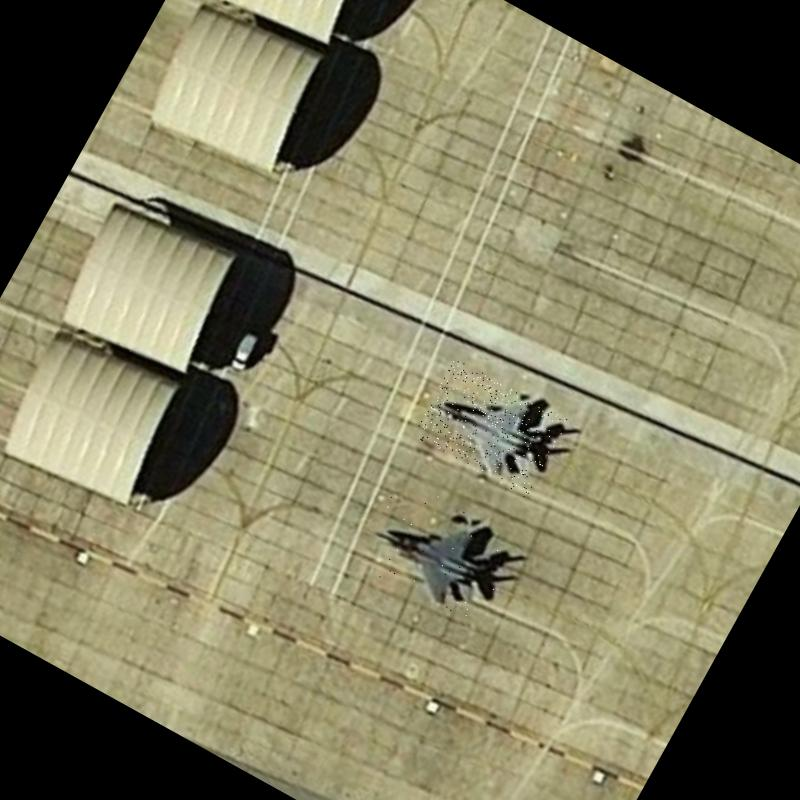A13: (351, 473, 522, 629), (412, 357, 568, 498)
